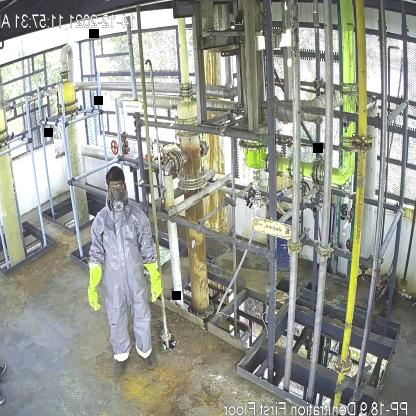goggles: (109, 182, 125, 192)
mask: (109, 191, 127, 215)
